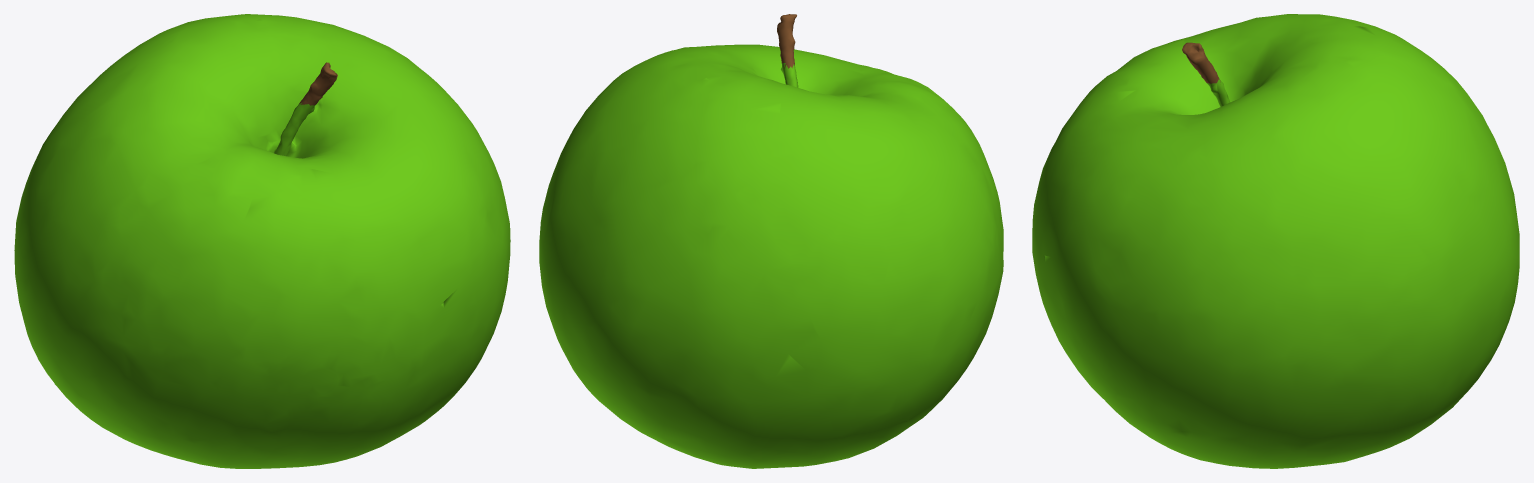
File: apple_realistic.glb
3 views of the same model, side by side, from view 1: azimuth 30°, elevation 25°; view 2: azimuth 150°, elevation 25°; view 3: azimuth 270°, elevation 25° (orthographic). The views are drawn at different scales.
Parts seen in each view (by area): view 1: Apple; view 2: Apple; view 3: Apple.
Part boxes in pixels (bbox=[...]): Apple: bbox=[14, 14, 510, 468]; Apple: bbox=[539, 14, 1003, 468]; Apple: bbox=[1032, 14, 1519, 468].
Bounding box in the file's own units: 0.0976 × 0.0854 × 0.0959.
